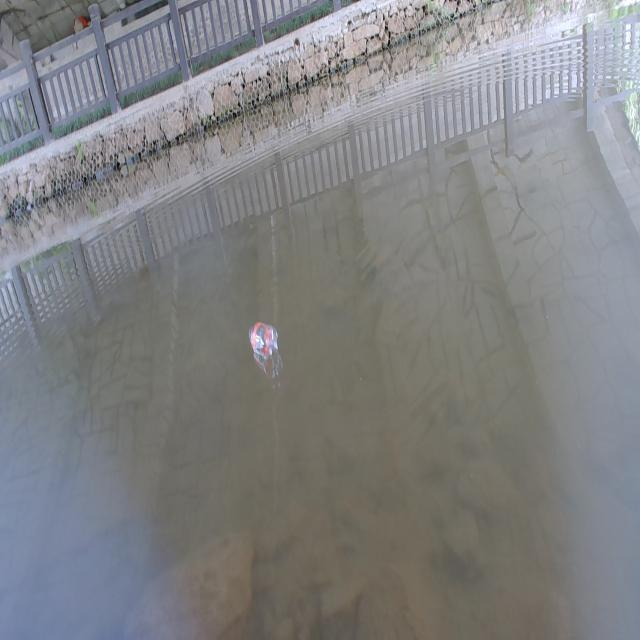garbage: (248, 320, 278, 360)
